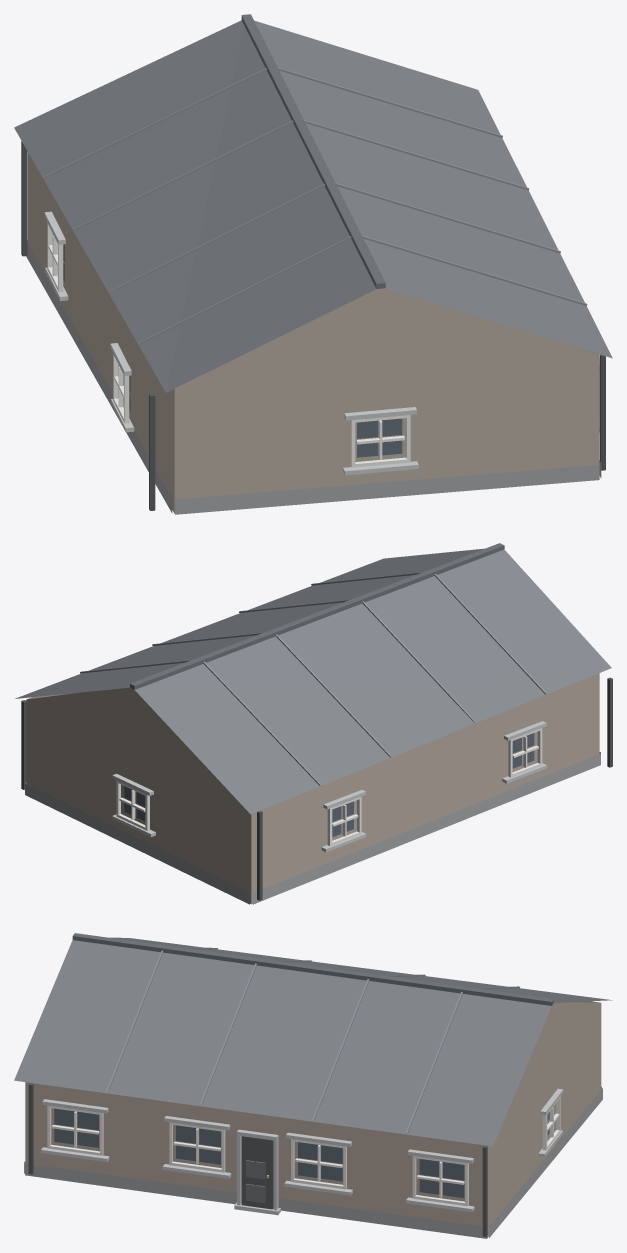
3 renders of one model, top to bottom at view 1: azimuth 30°, elevation 25°; view 2: azimuth 150°, elevation 25°; view 3: azimuth 270°, elevation 25°, orthographic. The views are drawn at different scales.
Parts seen in each view (by area): view 1: slate, harl_brown, plinth, slate_lt, slate_dk, frame, pipe, stone_band; view 2: slate, harl_brown, plinth, slate_dk, slate_lt, frame, stone_band, pipe; view 3: slate, harl_brown, plinth, stone_band, frame, slate_dk, slate_lt, door_dark, pipe, door_dark_p.
Part boxes in pixels (box(x1,y1,x2,y2)): slate: box(14, 20, 612, 392); harl_brown: box(28, 152, 599, 513); plinth: box(26, 240, 601, 514); slate_lt: box(43, 67, 587, 344); slate_dk: box(241, 14, 385, 288); frame: box(47, 223, 599, 467); pipe: box(21, 141, 605, 510); stone_band: box(44, 211, 599, 475); slate: box(15, 548, 611, 814); harl_brown: box(26, 673, 599, 904); plinth: box(25, 752, 600, 904); slate_dk: box(130, 543, 504, 689); slate_lt: box(80, 572, 546, 785); frame: box(116, 728, 542, 845); stone_band: box(112, 721, 546, 852); pipe: box(21, 677, 612, 900); slate: box(14, 937, 612, 1146); harl_brown: box(25, 1001, 601, 1238); plinth: box(24, 1086, 602, 1238); stone_band: box(41, 1088, 563, 1215); frame: box(47, 1097, 560, 1205); slate_dk: box(72, 933, 553, 1005); slate_lt: box(106, 947, 519, 1133); door_dark: box(241, 1136, 273, 1209); pipe: box(28, 1083, 487, 1236); door_dark_p: box(246, 1160, 265, 1203).
Size of the model in its own units: 13.32 by 5.04 by 16.04.
